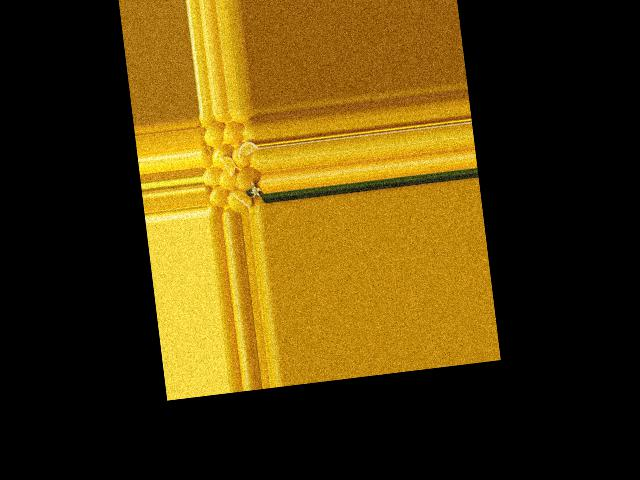lemon: (236, 119, 258, 143)
